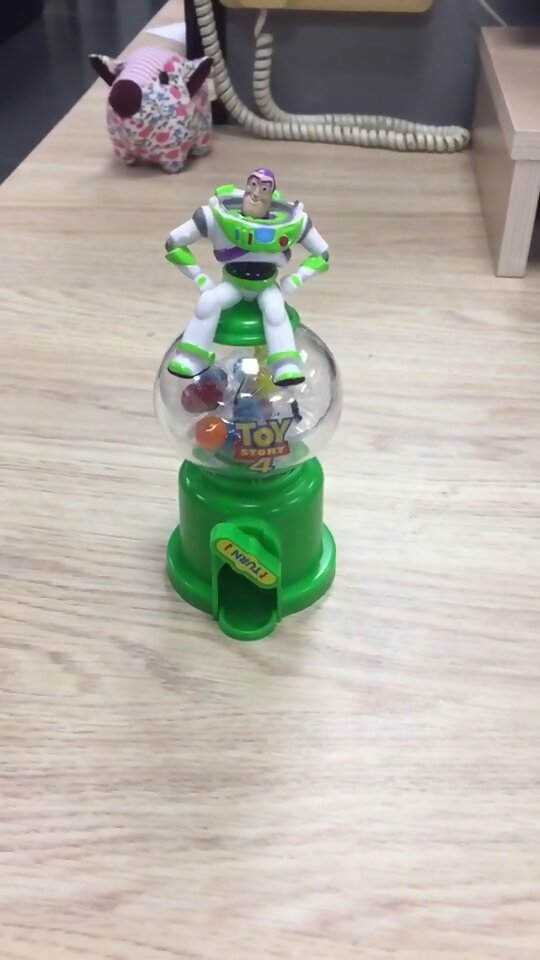buzz: (148, 164, 345, 642)
